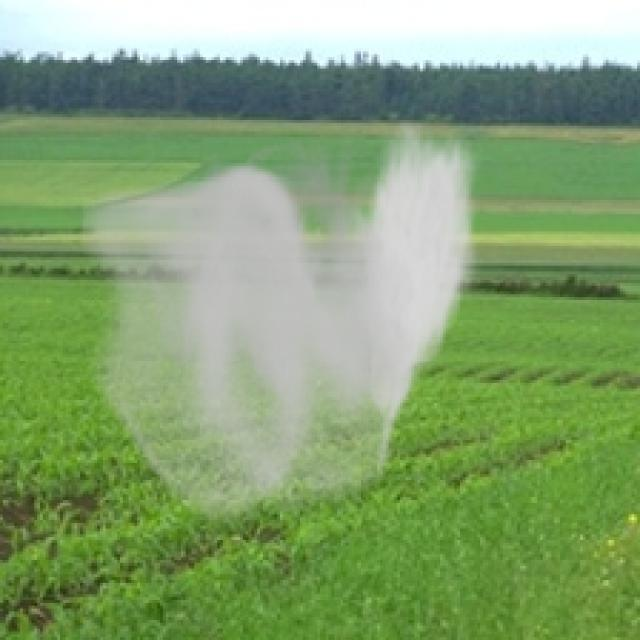Smoke: (80, 115, 483, 534)
